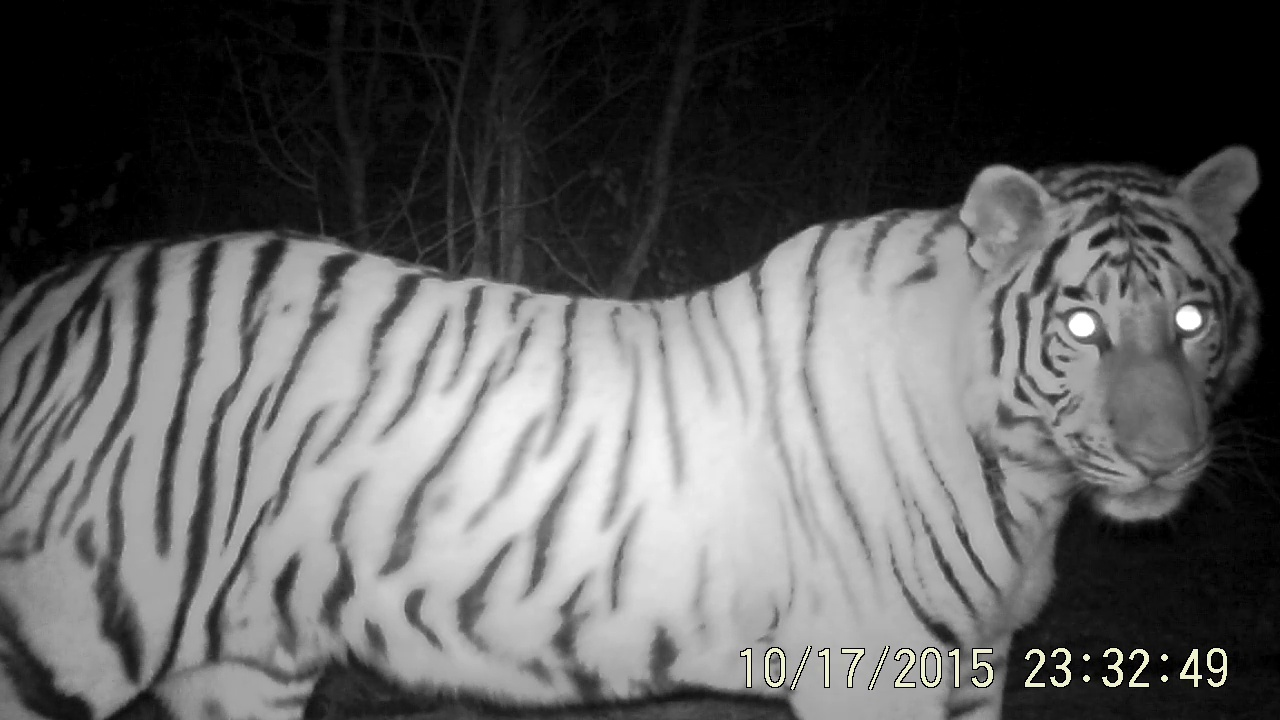Tiger: (3, 65, 1280, 720)
